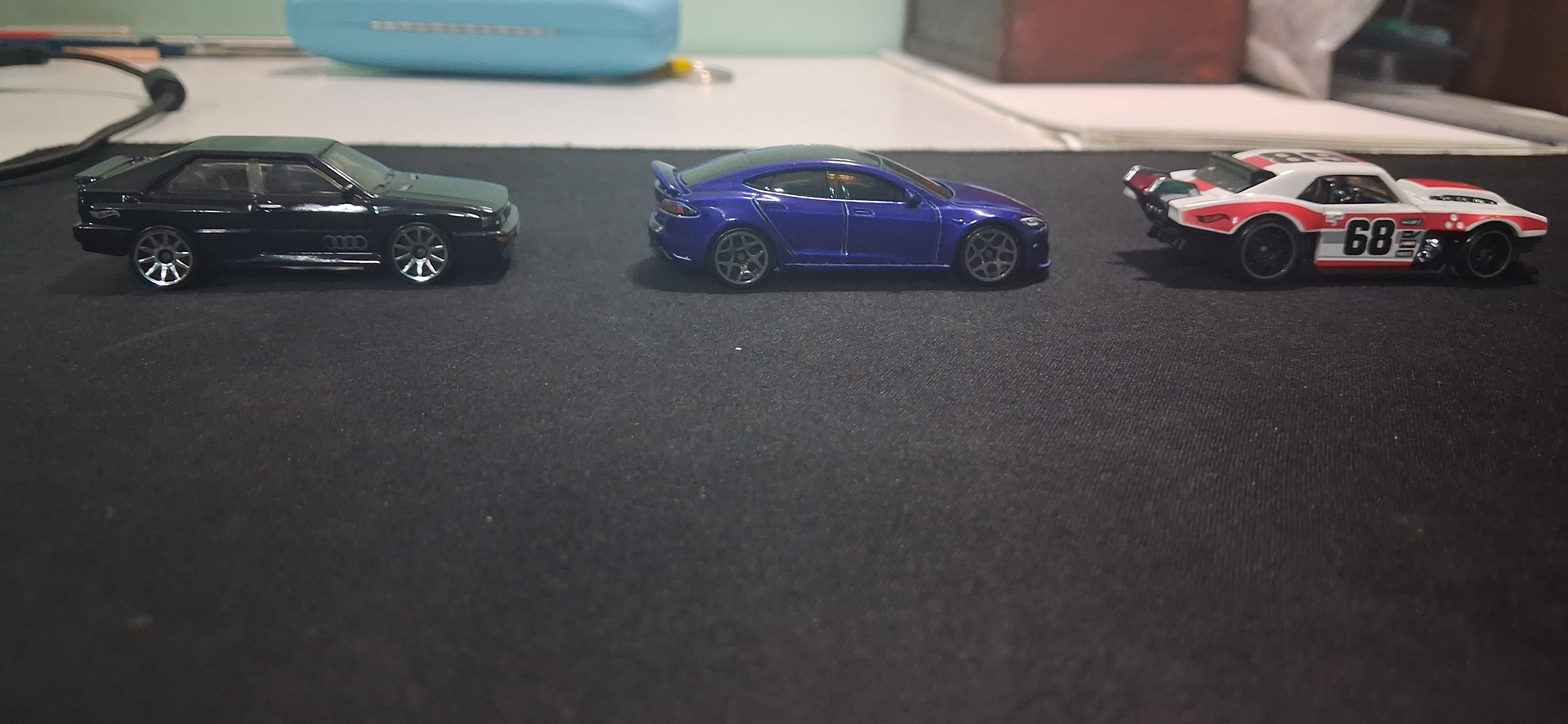Audi_Quattro: (41, 118, 538, 298)
Camaro: (1101, 120, 1558, 330)
Tesla_Model_S_Plaid: (624, 100, 1048, 325)
